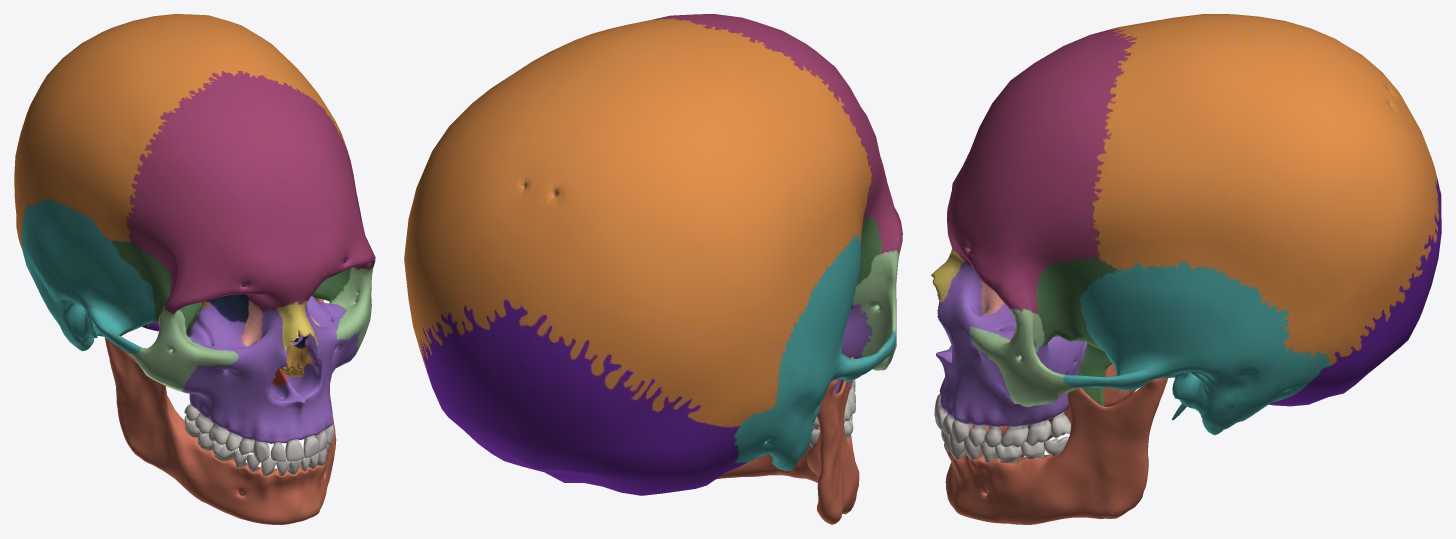
The model's file is 头骨_opt.glb.
3 renders of one model, left to right at view 1: azimuth 30°, elevation 25°; view 2: azimuth 150°, elevation 25°; view 3: azimuth 270°, elevation 25°, orthographic. The views are drawn at different scales.
Parts seen in each view (by area): view 1: UnifiedSkullWork_Low, Mandible, Teeth; view 2: UnifiedSkullWork_Low, Mandible, Teeth; view 3: UnifiedSkullWork_Low, Mandible, Teeth.
Boxes of the visible parts, x1,y1,x2,y2 form: UnifiedSkullWork_Low: [14, 14, 375, 443]; Mandible: [104, 298, 336, 524]; Teeth: [184, 403, 334, 475]; UnifiedSkullWork_Low: [404, 14, 902, 495]; Mandible: [716, 357, 859, 524]; Teeth: [809, 379, 855, 447]; UnifiedSkullWork_Low: [931, 14, 1441, 435]; Mandible: [944, 364, 1167, 524]; Teeth: [934, 394, 1070, 462].
Size of the model in its own units: 0.2874 by 0.4 by 0.3937.
Materials: 3 (2 with a texture image).
